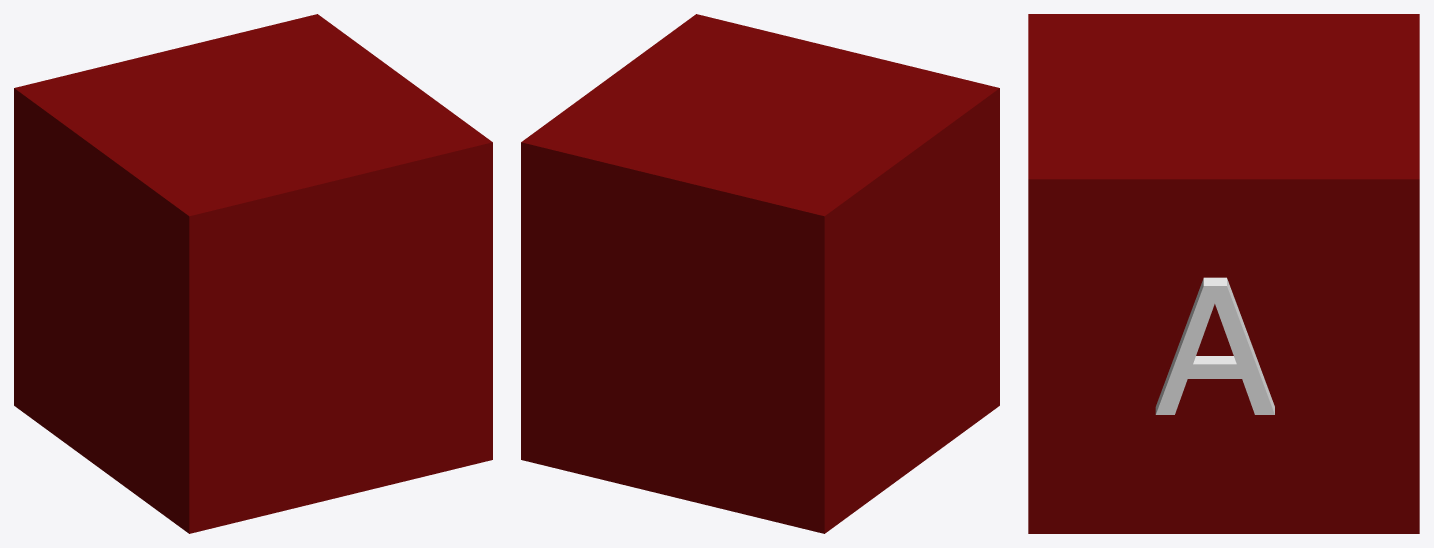
The picture shows the model from 3 angles, left to right: view 1: azimuth 30°, elevation 25°; view 2: azimuth 150°, elevation 25°; view 3: azimuth 270°, elevation 25°; orthographic projection. The views are drawn at different scales.
Visible parts, largest first — view 1: SketchUp; view 2: SketchUp; view 3: SketchUp, A_1.
Boxes of the visible parts, box(x1,y1,x2,y2) form: SketchUp: box(14, 14, 492, 533); SketchUp: box(521, 14, 999, 533); SketchUp: box(1028, 14, 1419, 533); A_1: box(1155, 277, 1274, 414).
Size of the model in its own units: 21 by 20 by 20.
